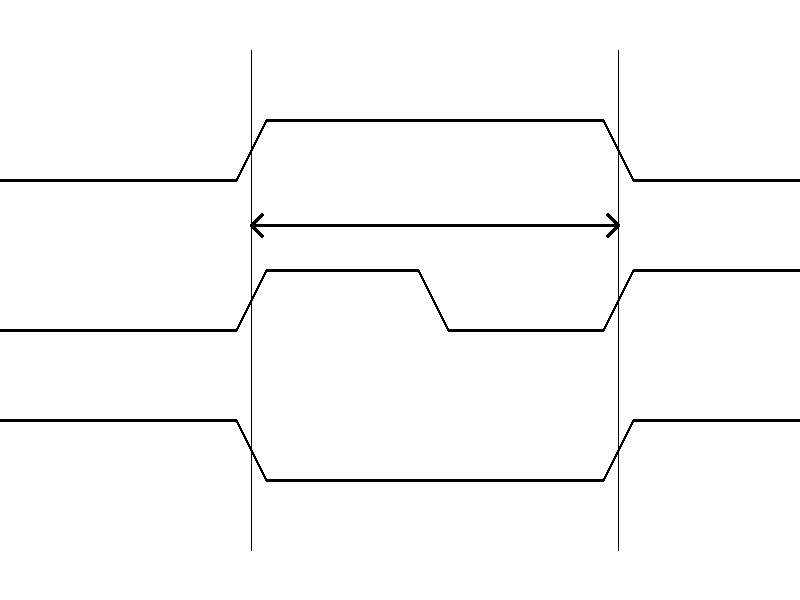double_arrow: (251, 210, 618, 240)
